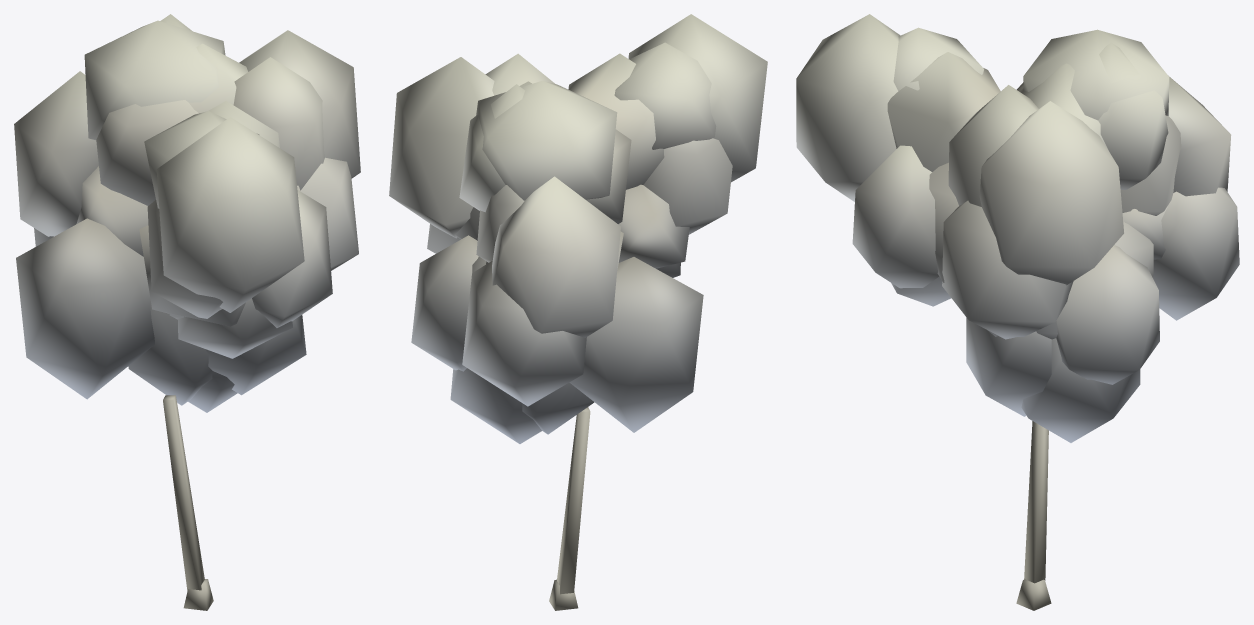
3 views of the same model, side by side, from view 1: azimuth 30°, elevation 25°; view 2: azimuth 150°, elevation 25°; view 3: azimuth 270°, elevation 25° (orthographic). The views are drawn at different scales.
Parts seen in each view (by area): view 1: crown, trunk; view 2: crown, trunk; view 3: crown, trunk.
Boxes of the visible parts, left/top/right/bottom form: crown: left=14, top=14, right=360, bottom=412; trunk: left=163, top=395, right=213, bottom=610; crown: left=389, top=14, right=767, bottom=443; trunk: left=549, top=407, right=590, bottom=610; crown: left=796, top=14, right=1239, bottom=442; trunk: left=1016, top=421, right=1051, bottom=610.
Size of the model in its own units: 9.28 by 15.82 by 11.17.
